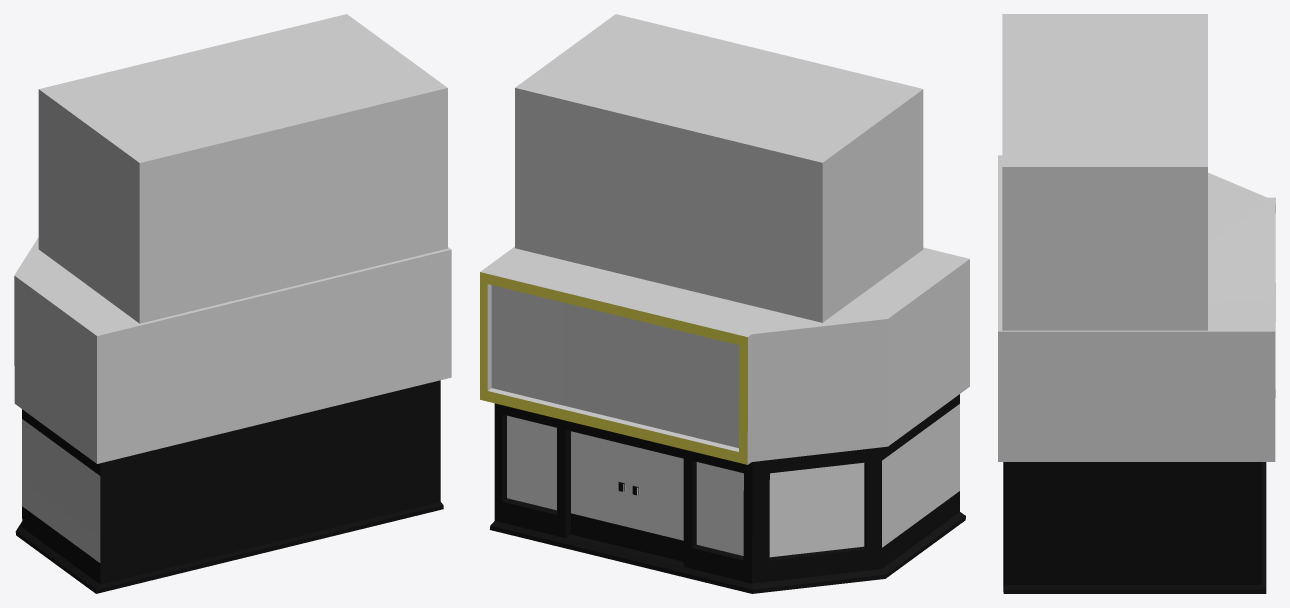
The model's file is teky.glb.
The picture shows the model from 3 angles, left to right: view 1: azimuth 30°, elevation 25°; view 2: azimuth 150°, elevation 25°; view 3: azimuth 270°, elevation 25°; orthographic projection.
Parts seen in each view (by area): view 1: Cube.001; view 2: Cube.001; view 3: Cube.001.
Boxes of the visible parts, bbox=[...] form: Cube.001: bbox=[14, 14, 451, 593]; Cube.001: bbox=[480, 14, 969, 593]; Cube.001: bbox=[998, 14, 1275, 593].
Size of the model in its own units: 67.61 by 76.61 by 44.99.
